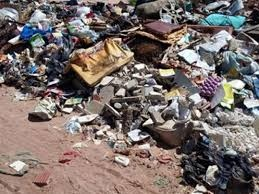rubble: (1, 1, 259, 148)
